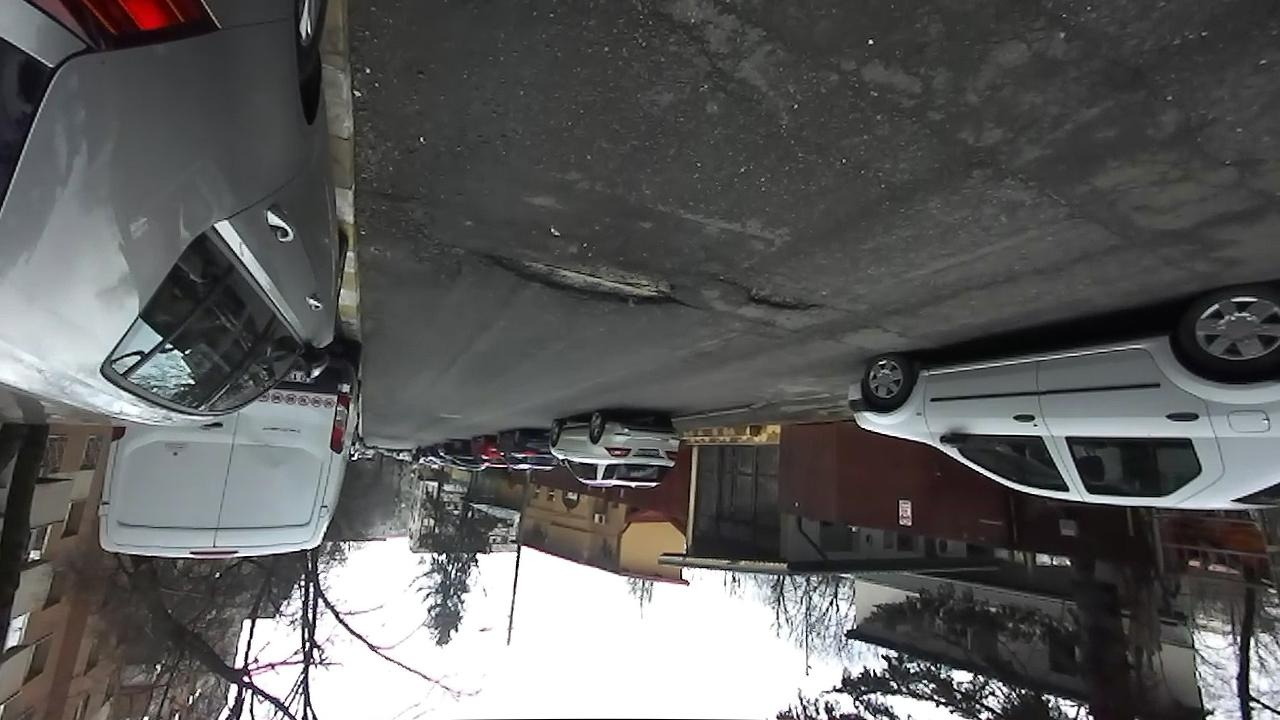pothole: (469, 243, 701, 316), (711, 273, 831, 316)
